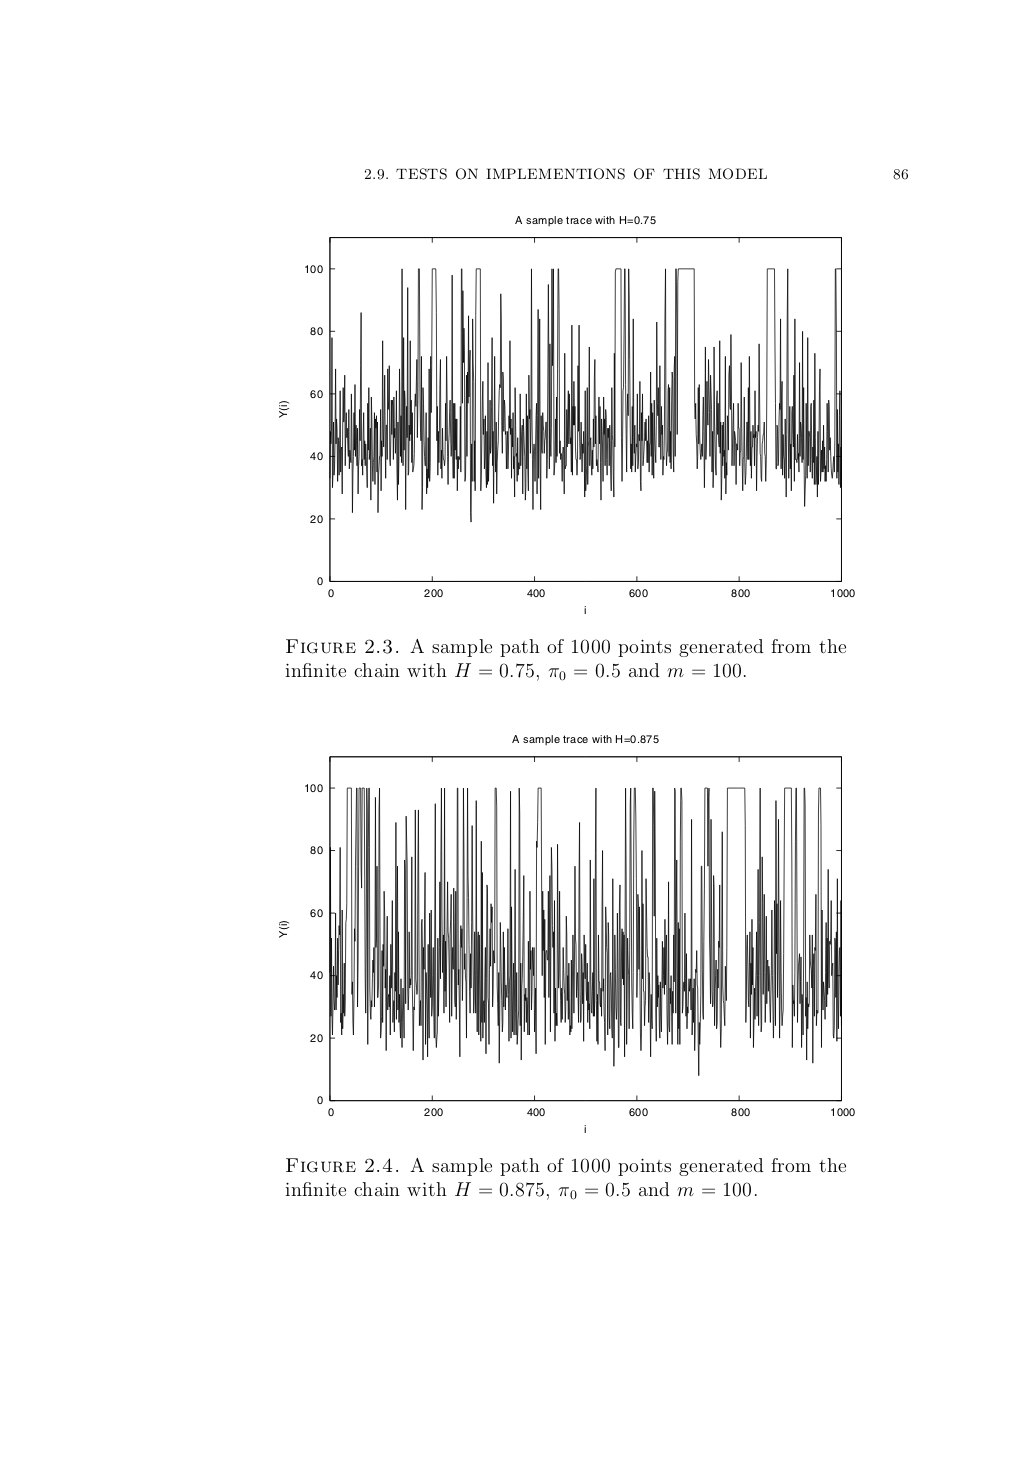figure: (279, 756, 854, 1132), (279, 236, 854, 607)
